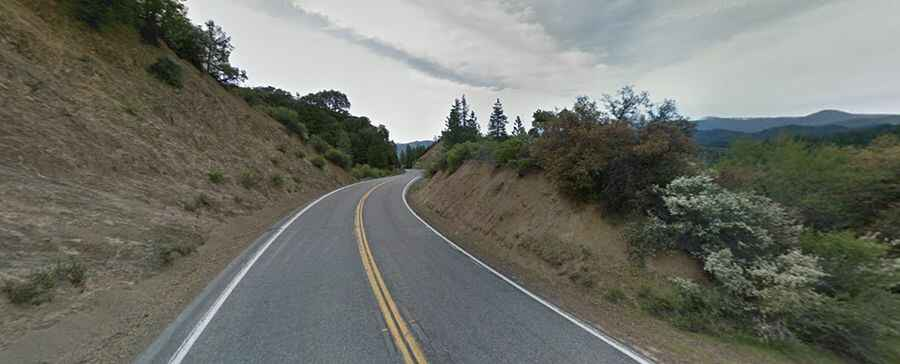rightTrun: (258, 145, 427, 331)
